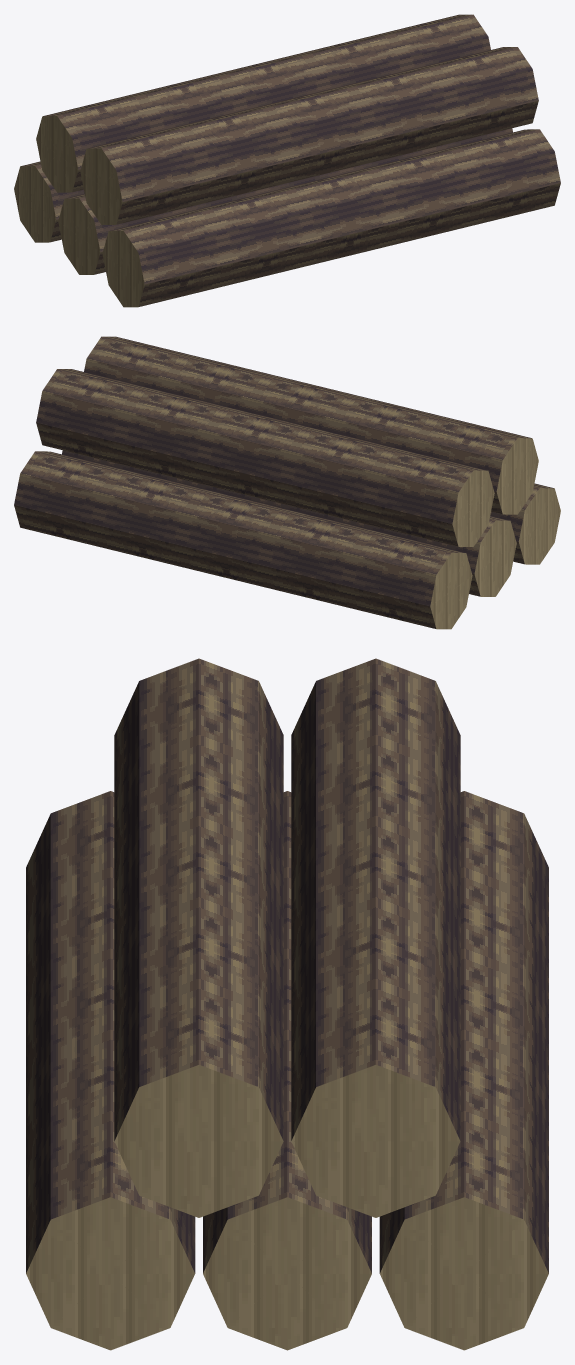
File: logpile.glb
3 views of the same model, one above another, from view 1: azimuth 30°, elevation 25°; view 2: azimuth 150°, elevation 25°; view 3: azimuth 270°, elevation 25° (orthographic). The views are drawn at different scales.
Parts seen in each view (by area): view 1: logpile; view 2: logpile; view 3: logpile.
Boxes of the visible parts, box(x1,y1,x2,y2) form: logpile: box(14, 14, 560, 307); logpile: box(14, 336, 560, 629); logpile: box(26, 658, 548, 1350).
Size of the model in its own units: 2.5 by 0.82 by 1.36.
2 materials, 2 textured.
